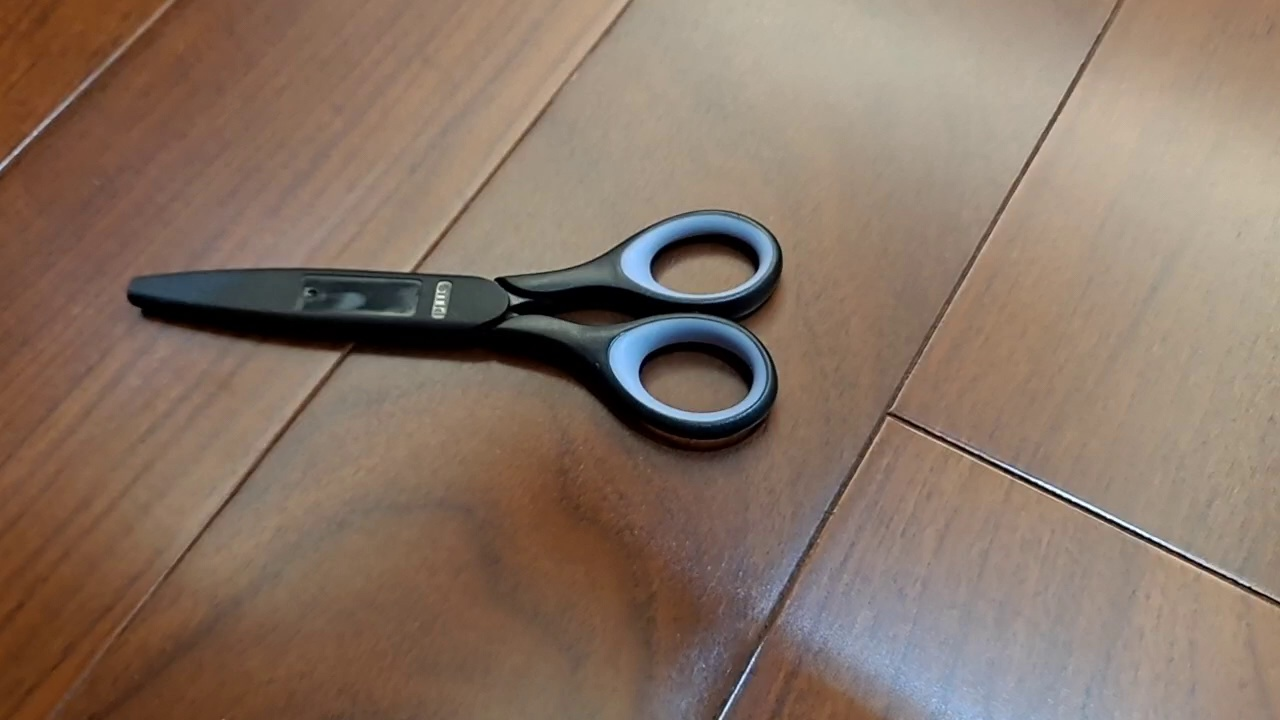scissors: (124, 208, 783, 444)
